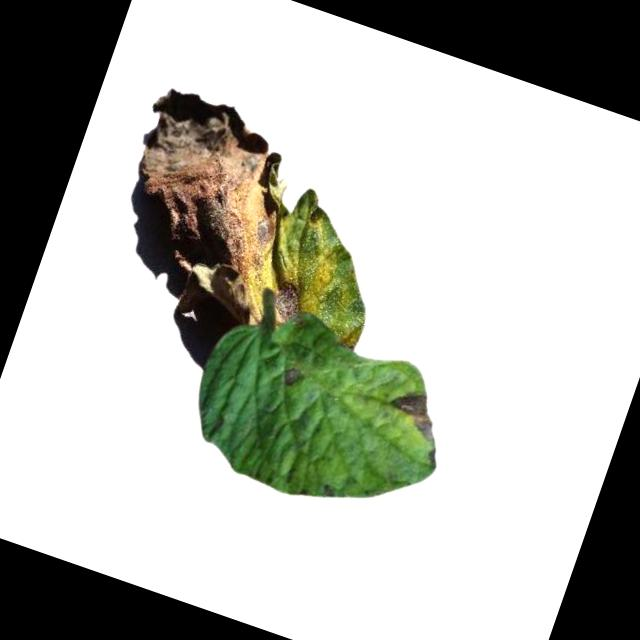Early_blight: (94, 82, 419, 359), (372, 381, 457, 466), (279, 366, 302, 391)
